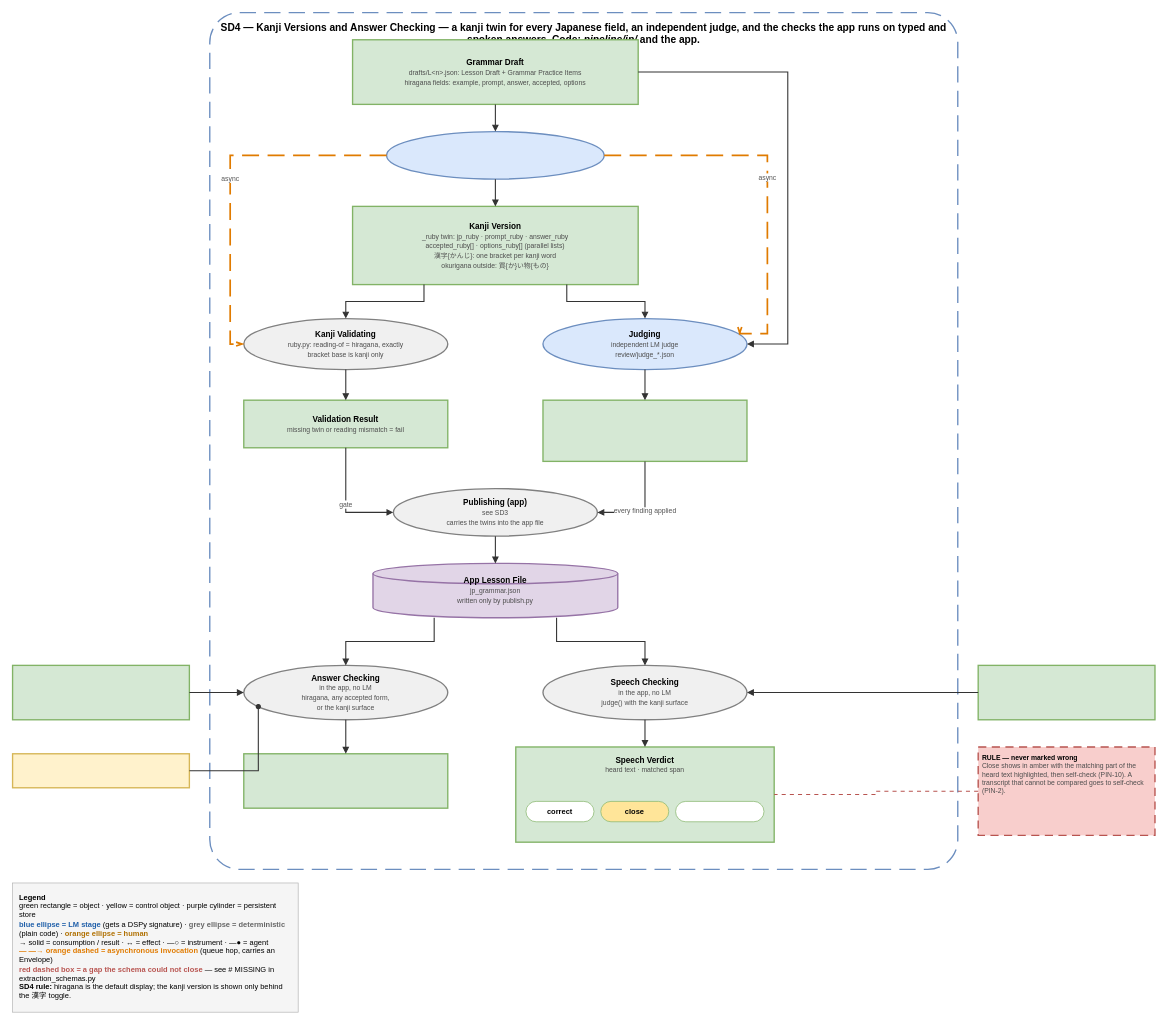
Image size: 1167x1024. Some labels were removed from this diagram. Here are the shapes that lost their labels. From the top down, the centre of each, then its label:
At [495,155]: "Kanji Drafting one twin per Japanese field standard N4 kanji only".
At [644,430]: "Judge Finding point_id · item_index verdict · fix applied: bool".
At [101,692]: "Typed Answer Japanese keyboard hintLocales: ja-JP".
At [1066,692]: "Transcript speech recognition often kanji, sometimes hiragana".
At [101,770]: "Learner".
At [345,781]: "Answer Verdict correct | wrong matched form".
At [719,811]: "self-check".
